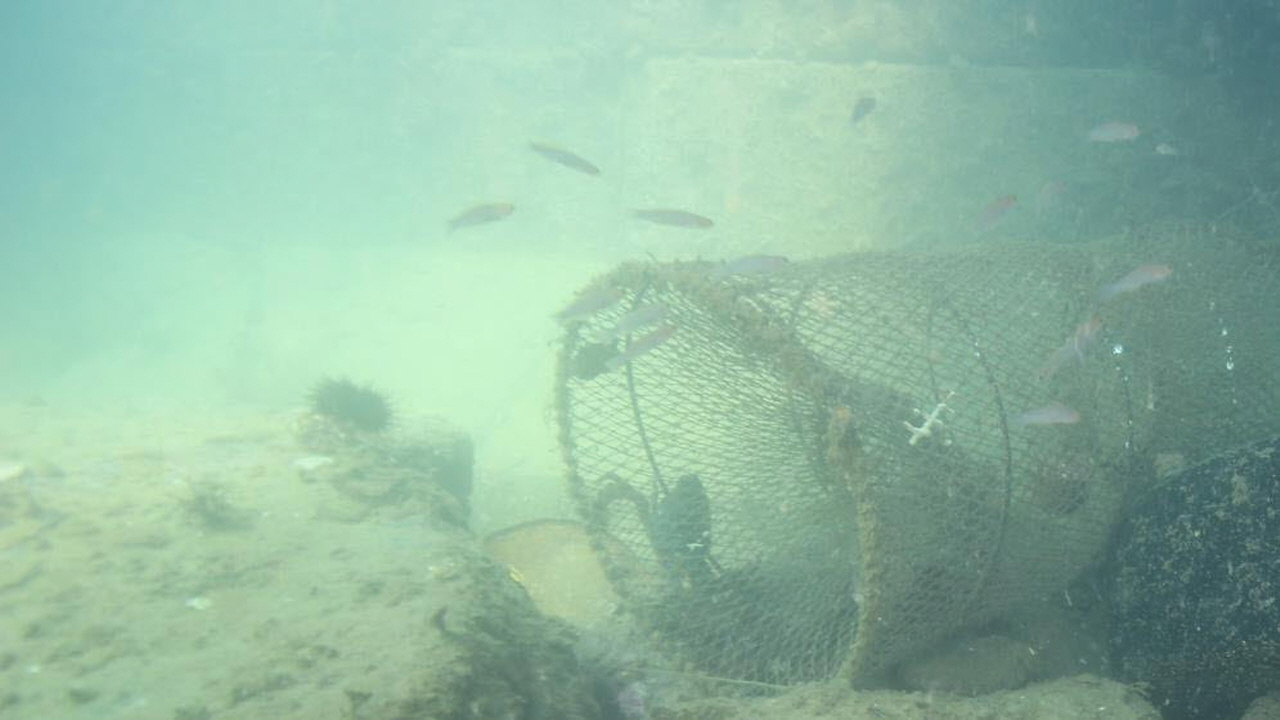spring fish trap: (552, 216, 1280, 703)
